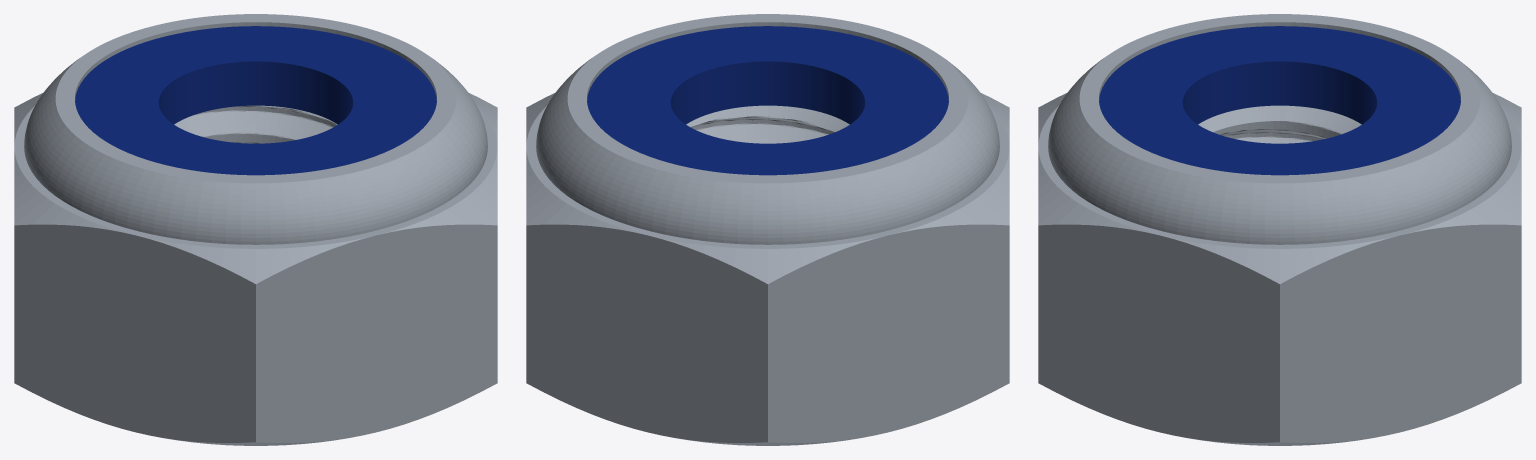
The model's file is model_full.glb.
The picture shows the model from 3 angles, left to right: view 1: azimuth 30°, elevation 25°; view 2: azimuth 150°, elevation 25°; view 3: azimuth 270°, elevation 25°; orthographic projection.
Visible parts, largest first — view 1: steel, nylon_insert; view 2: steel, nylon_insert; view 3: steel, nylon_insert.
Boxes of the visible parts, x1,y1,x2,y2 form: steel: [14, 14, 497, 445]; nylon_insert: [75, 26, 436, 175]; steel: [526, 14, 1009, 445]; nylon_insert: [587, 26, 948, 175]; steel: [1038, 14, 1521, 445]; nylon_insert: [1099, 26, 1460, 175].
Size of the model in its own units: 0.00577 by 0.0028 by 0.005.
